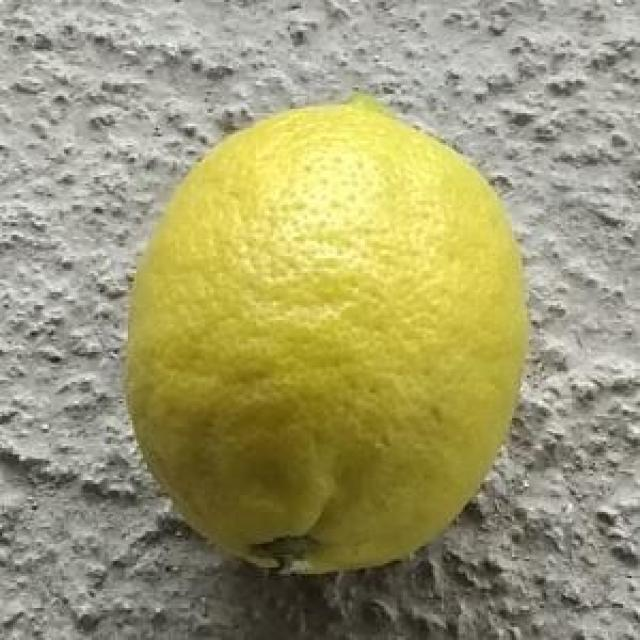lemon: (118, 78, 532, 570)
